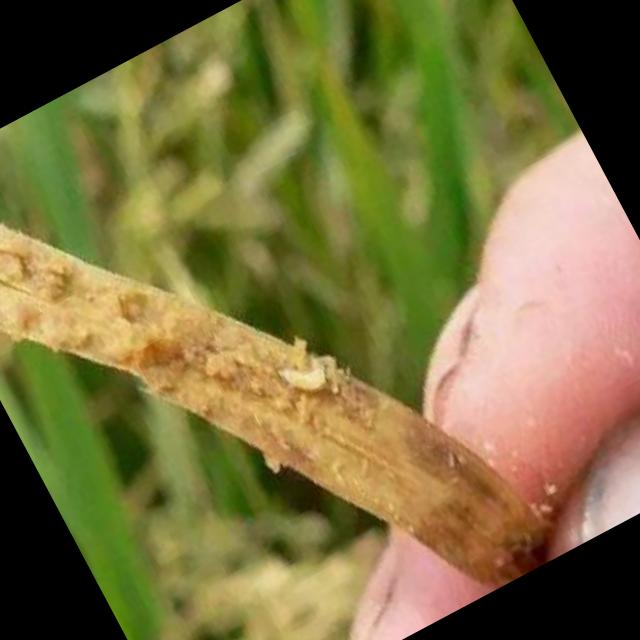whorl-maggot: (271, 348, 337, 409)
